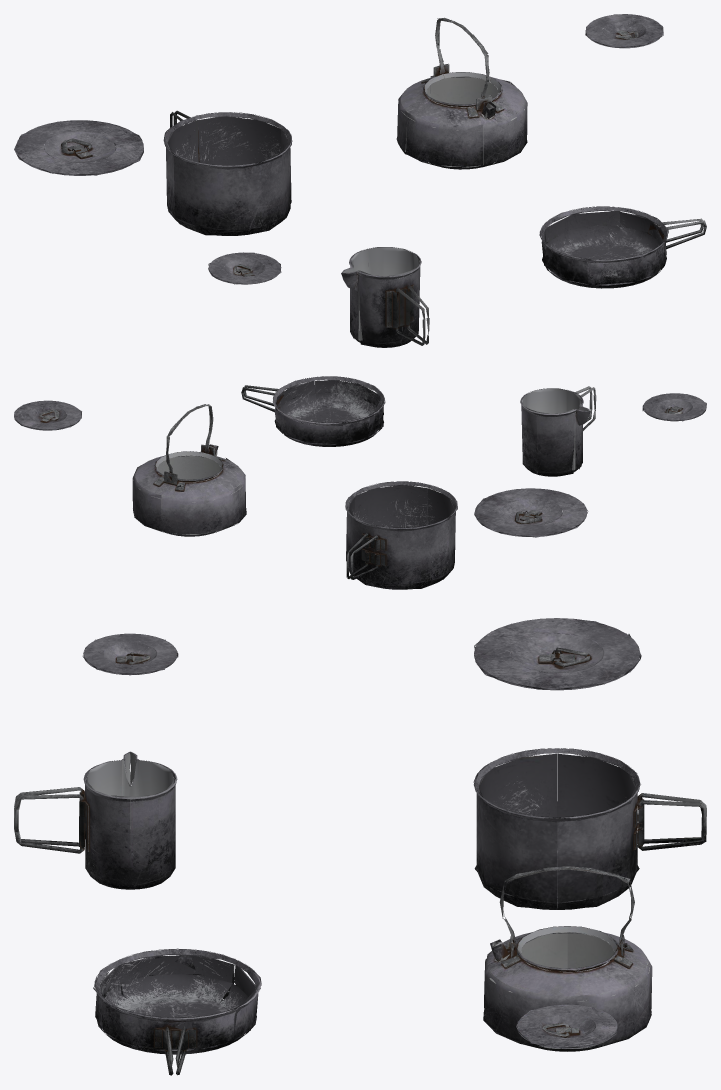
Rendered from cooking_pots.glb.
The picture shows the model from 3 angles, top to bottom: view 1: azimuth 30°, elevation 25°; view 2: azimuth 150°, elevation 25°; view 3: azimuth 270°, elevation 25°; orthographic projection. The views are drawn at different scales.
Visible parts, largest first — view 1: pot.001_Cooking pot_0, Kettle_Kettle_0, pan_Pan_0, Boiler_Boiler_0; view 2: pot.001_Cooking pot_0, Kettle_Kettle_0, pan_Pan_0, Boiler_Boiler_0; view 3: pot.001_Cooking pot_0, Kettle_Kettle_0, Boiler_Boiler_0, pan_Pan_0.
Boxes of the visible parts, x1,y1,x2,y2 form: pot.001_Cooking pot_0: [14, 110, 292, 235]; Kettle_Kettle_0: [396, 14, 663, 169]; pan_Pan_0: [539, 206, 706, 288]; Boiler_Boiler_0: [208, 247, 429, 347]; pot.001_Cooking pot_0: [345, 481, 588, 589]; Kettle_Kettle_0: [14, 400, 246, 536]; pan_Pan_0: [241, 376, 385, 446]; Boiler_Boiler_0: [520, 386, 706, 476]; pot.001_Cooking pot_0: [473, 618, 706, 909]; Kettle_Kettle_0: [483, 866, 652, 1051]; Boiler_Boiler_0: [14, 633, 178, 889]; pan_Pan_0: [93, 948, 261, 1075].
Size of the model in its own units: 2.06 by 0.3871 by 1.49.
4 materials, 4 textured.
